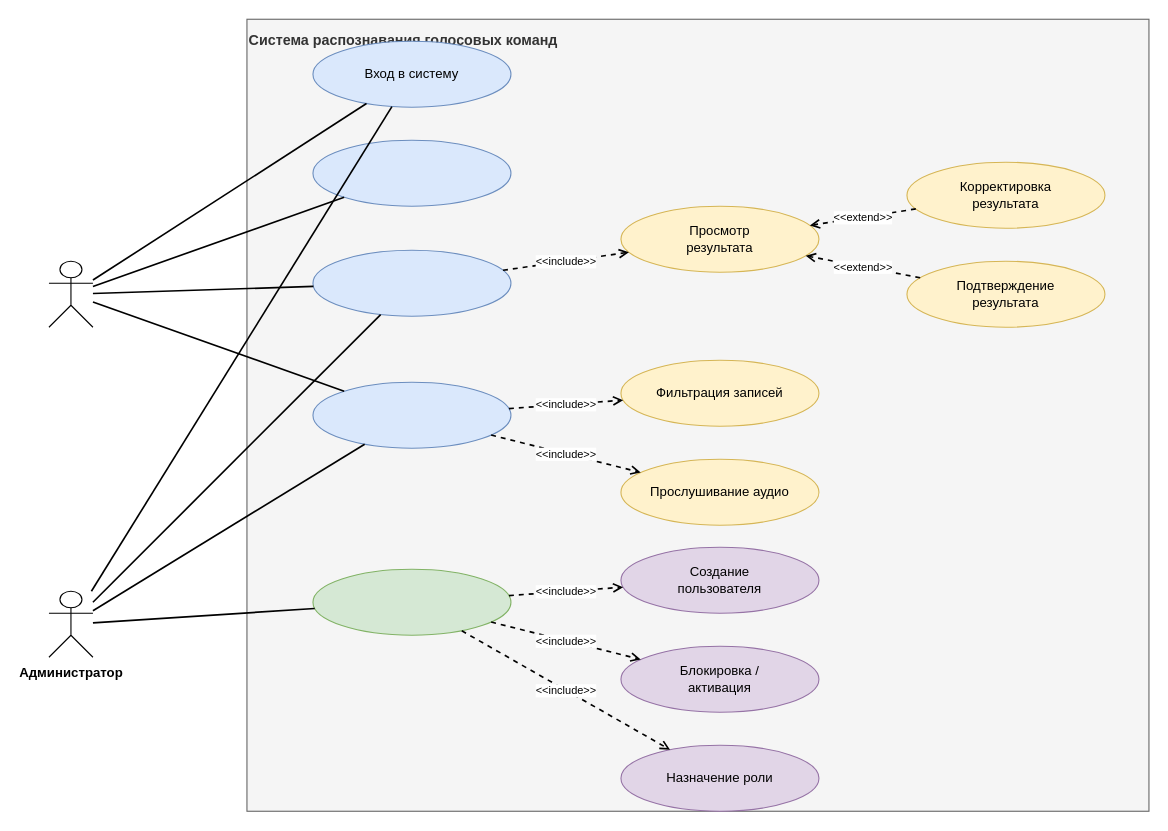
Some shapes in this 1168 by 831 pixel diagram are drawn without their labels. The shapes that lost their labels are listed below. From the top down, each one's centre as x and y in pixels, then its label:
At point 411,172: "Регистрация".
At point 70,293: "Оператор".
At point 411,282: "Запись голосовой команды".
At point 411,414: "Просмотр истории".
At point 411,601: "Управление пользователями".
